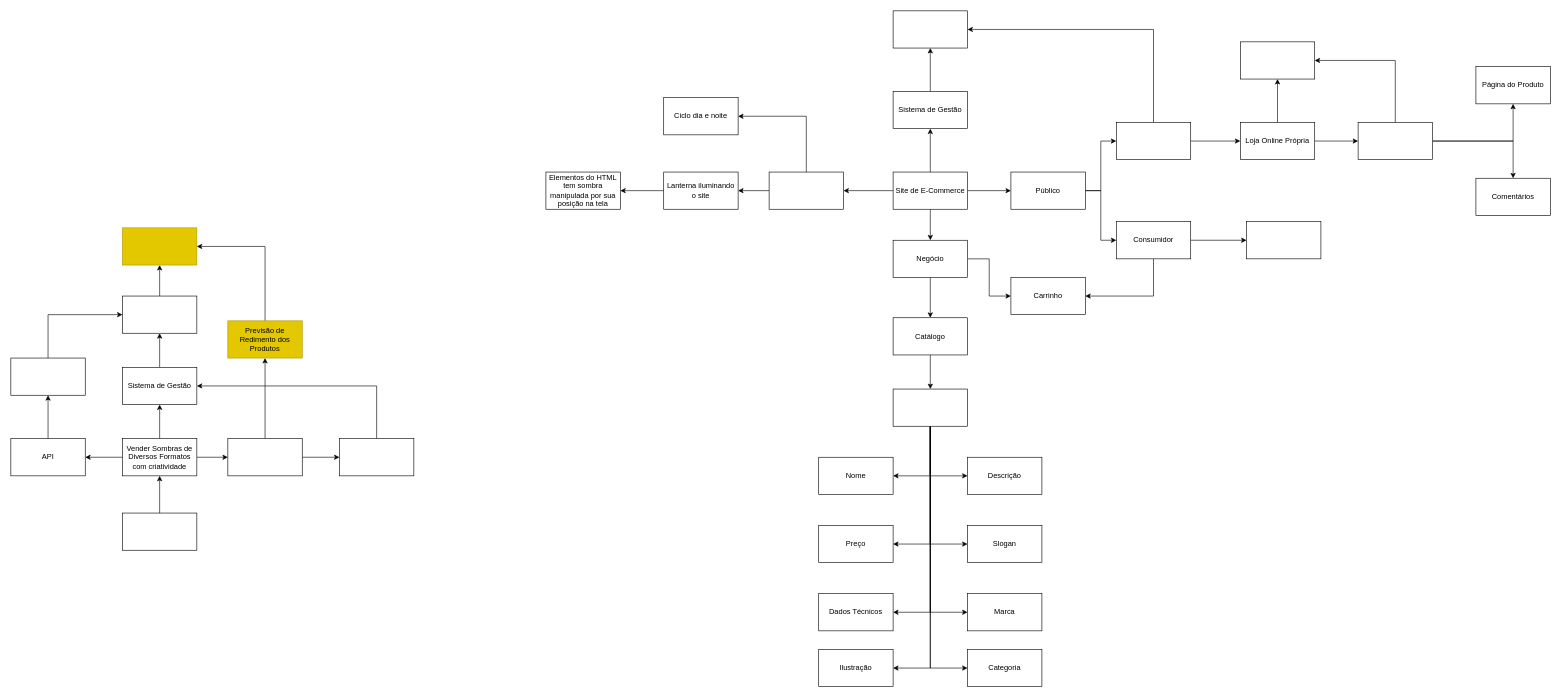
The diagram is 1561 pixels wide and 698 high, and some of its shapes have lost their labels. Here are the shapes that lost their labels. From the top down, the centre of each, then its label:
At (930,29): "Dashboard de Vendas".
At (1277,60): "Avaliação".
At (1153,141): "Vendedor".
At (1395,141): "Cadastro de Produtos".
At (806,190): "Design".
At (159,246): "Dashboard Interativo".
At (1283,240): "Perfil".
At (159,314): "Banco de Dados".
At (47,376): "Criptografia".
At (930,407): "Produto".
At (264,457): "Treinamento de IA".
At (376,457): "Detecção de Fraude".
At (159,531): "E-Commerce".
